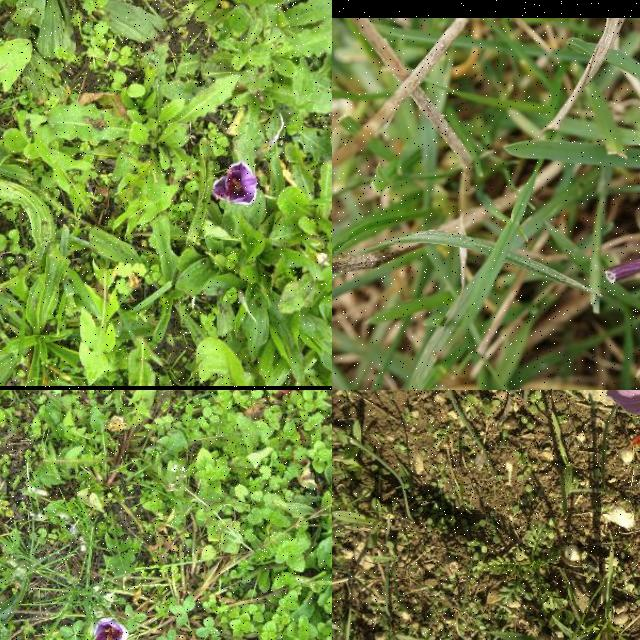flower: (212, 162, 260, 206), (92, 618, 128, 640)
